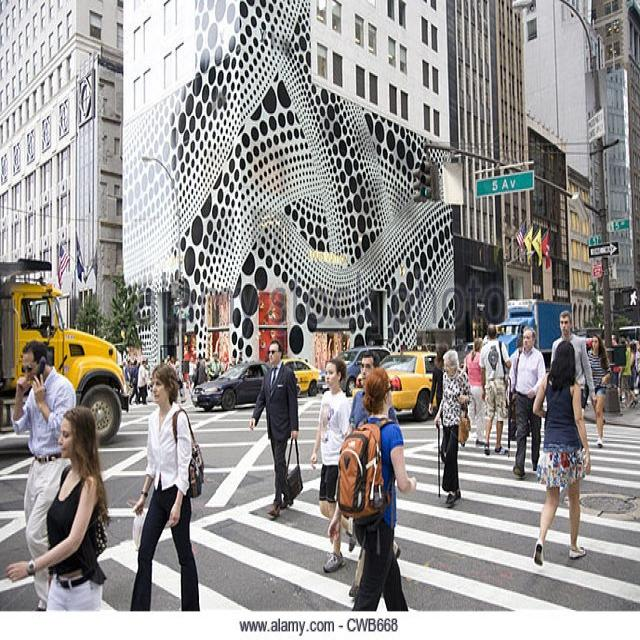body: (2, 404, 111, 638), (126, 360, 205, 638), (333, 365, 413, 613), (9, 337, 79, 616), (345, 349, 404, 603), (530, 338, 592, 568), (247, 338, 305, 522), (309, 357, 358, 574), (431, 348, 473, 512), (507, 320, 548, 482), (549, 310, 597, 422), (476, 321, 513, 458), (503, 329, 532, 454), (586, 330, 614, 450), (427, 340, 450, 452), (465, 335, 487, 447), (617, 336, 634, 409), (220, 355, 259, 377), (629, 341, 640, 406), (610, 331, 621, 394), (127, 359, 141, 408), (136, 358, 149, 407), (173, 362, 187, 404), (187, 354, 198, 401), (196, 355, 207, 400), (123, 358, 132, 411), (207, 351, 222, 381), (162, 354, 175, 365), (137, 361, 152, 369)
